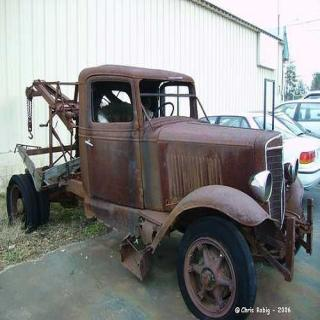Towing_truck: (5, 62, 314, 318)
